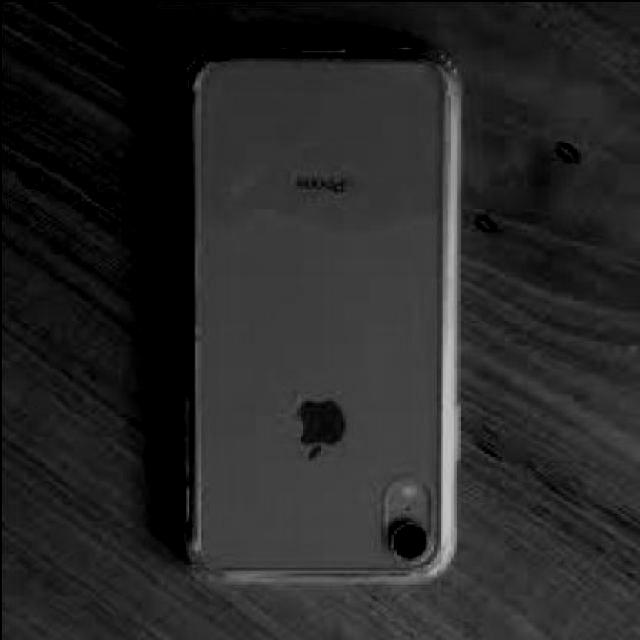fake: (178, 39, 456, 581)
